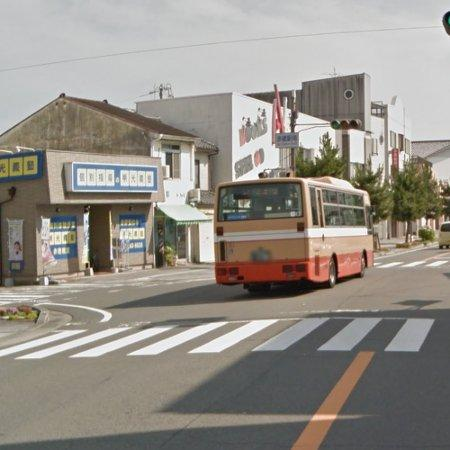crosswalks: (1, 316, 436, 361)
